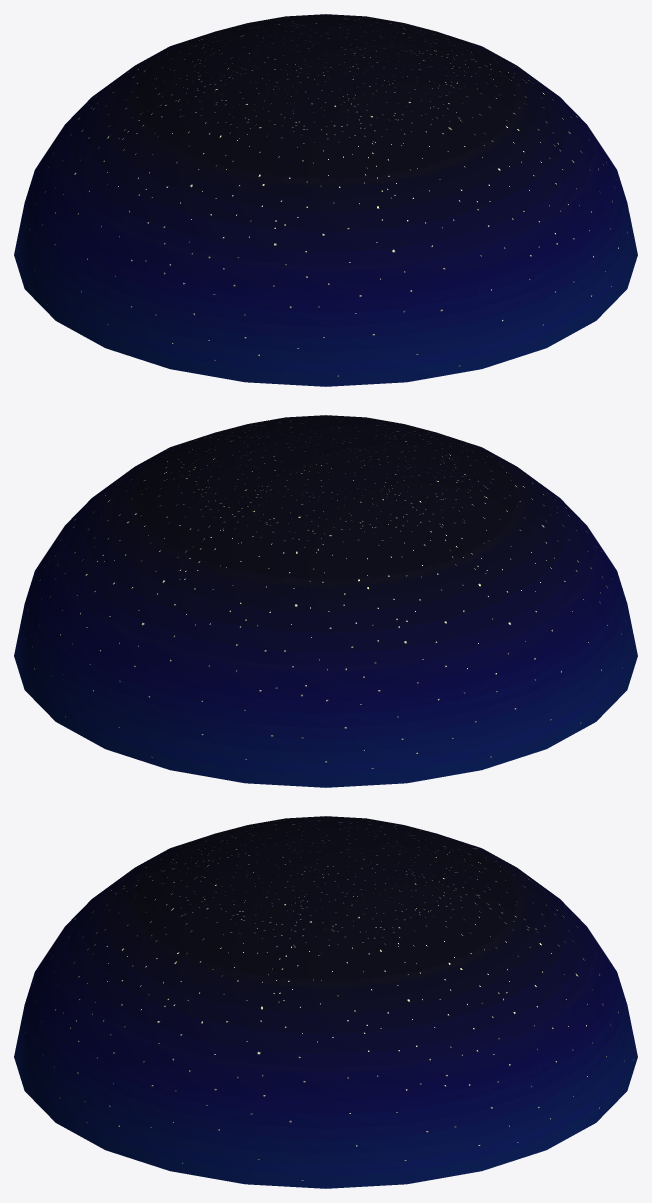
The model's file is sky_02 #955610.fbx.
The picture shows the model from 3 angles, top to bottom: view 1: azimuth 30°, elevation 25°; view 2: azimuth 150°, elevation 25°; view 3: azimuth 270°, elevation 25°; orthographic projection.
Parts seen in each view (by area): view 1: sky_02; view 2: sky_02; view 3: sky_02.
Part boxes in pixels (<box>): sky_02: <box>14,14,637,386</box>; sky_02: <box>14,415,637,787</box>; sky_02: <box>14,816,637,1188</box>.
Bounding box in the file's own units: 2106 × 752 × 2106.
